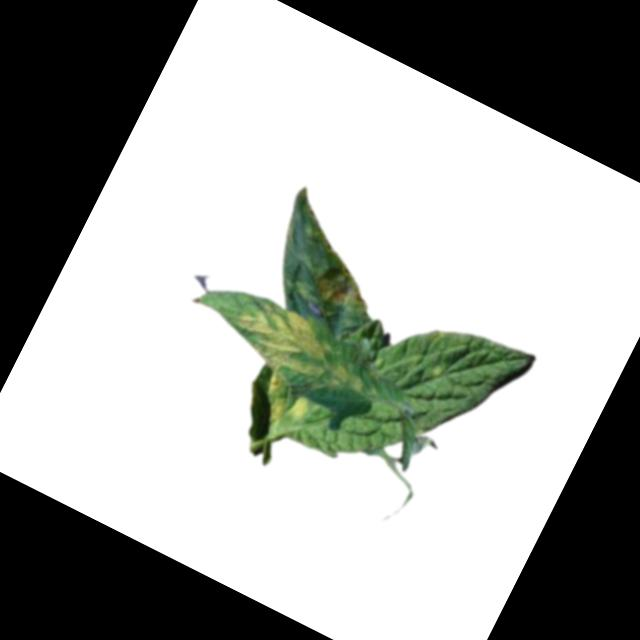Leaf_Mold: (225, 291, 380, 409), (301, 249, 383, 322), (252, 370, 314, 434)
